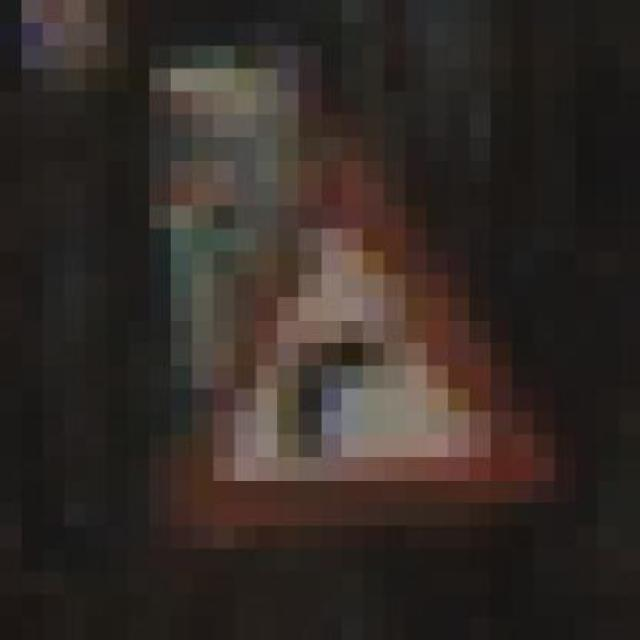Dangerous Rright Curve Ahead: (128, 114, 555, 526)
